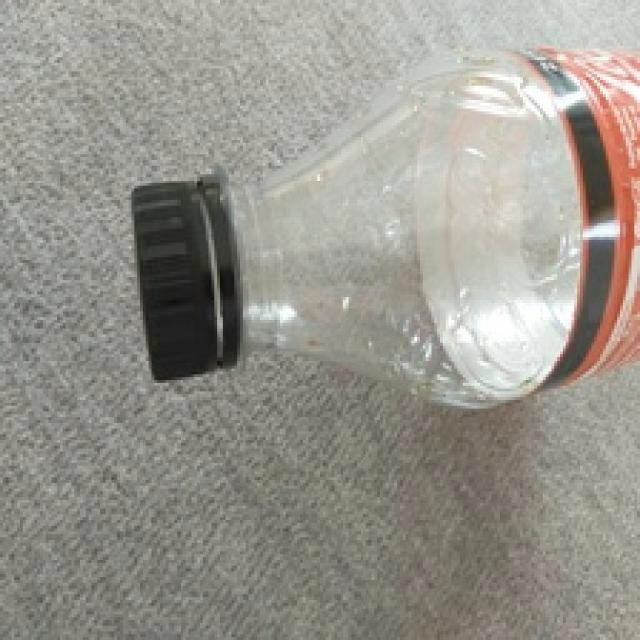bottle: (129, 49, 640, 410)
